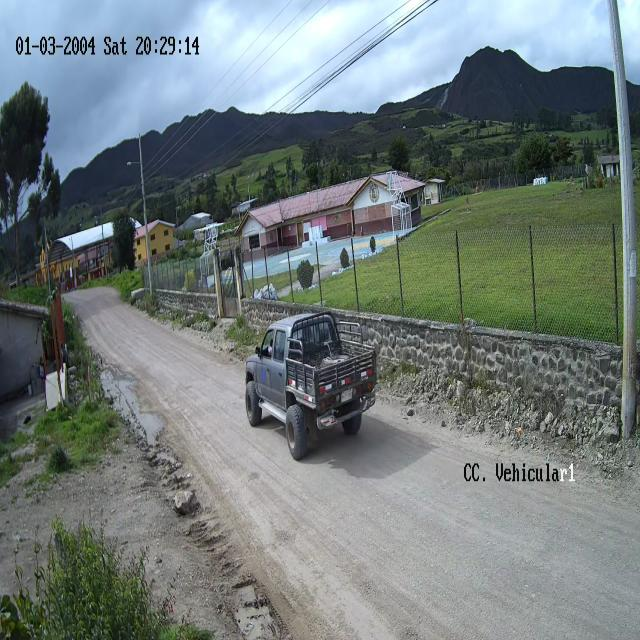CMT: (245, 312, 378, 463)
